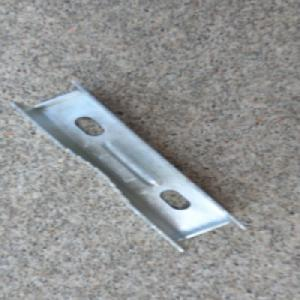ClampPart: (10, 82, 251, 256)
